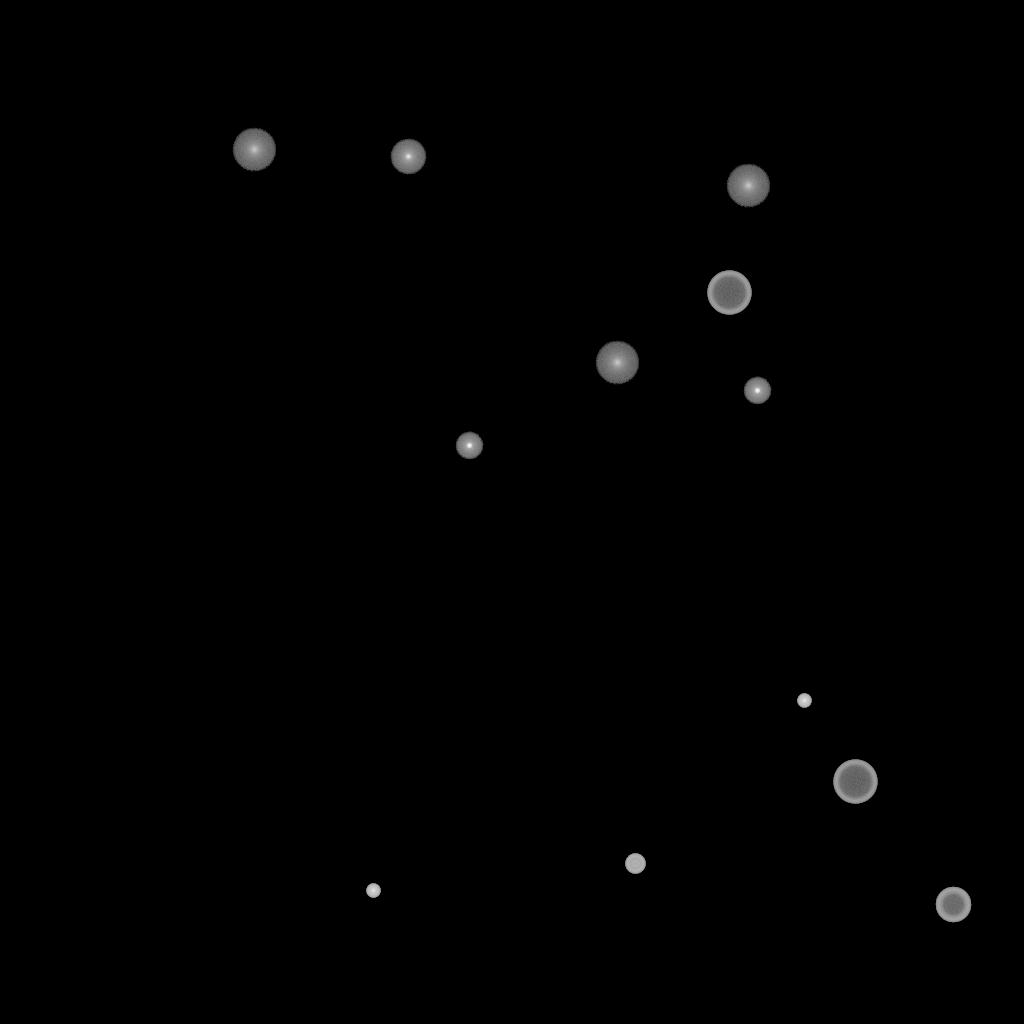depth:-10: (743, 377, 771, 405), (455, 432, 483, 460)
depth:-30: (797, 694, 811, 708), (366, 884, 380, 898)
depth:-40: (625, 854, 645, 874)
depth:-60: (935, 887, 971, 923)
depth:-70: (833, 760, 877, 804), (707, 271, 751, 315)
depth:0: (390, 139, 426, 175)
depth:10: (232, 128, 276, 172), (595, 341, 639, 385), (726, 164, 770, 208)
